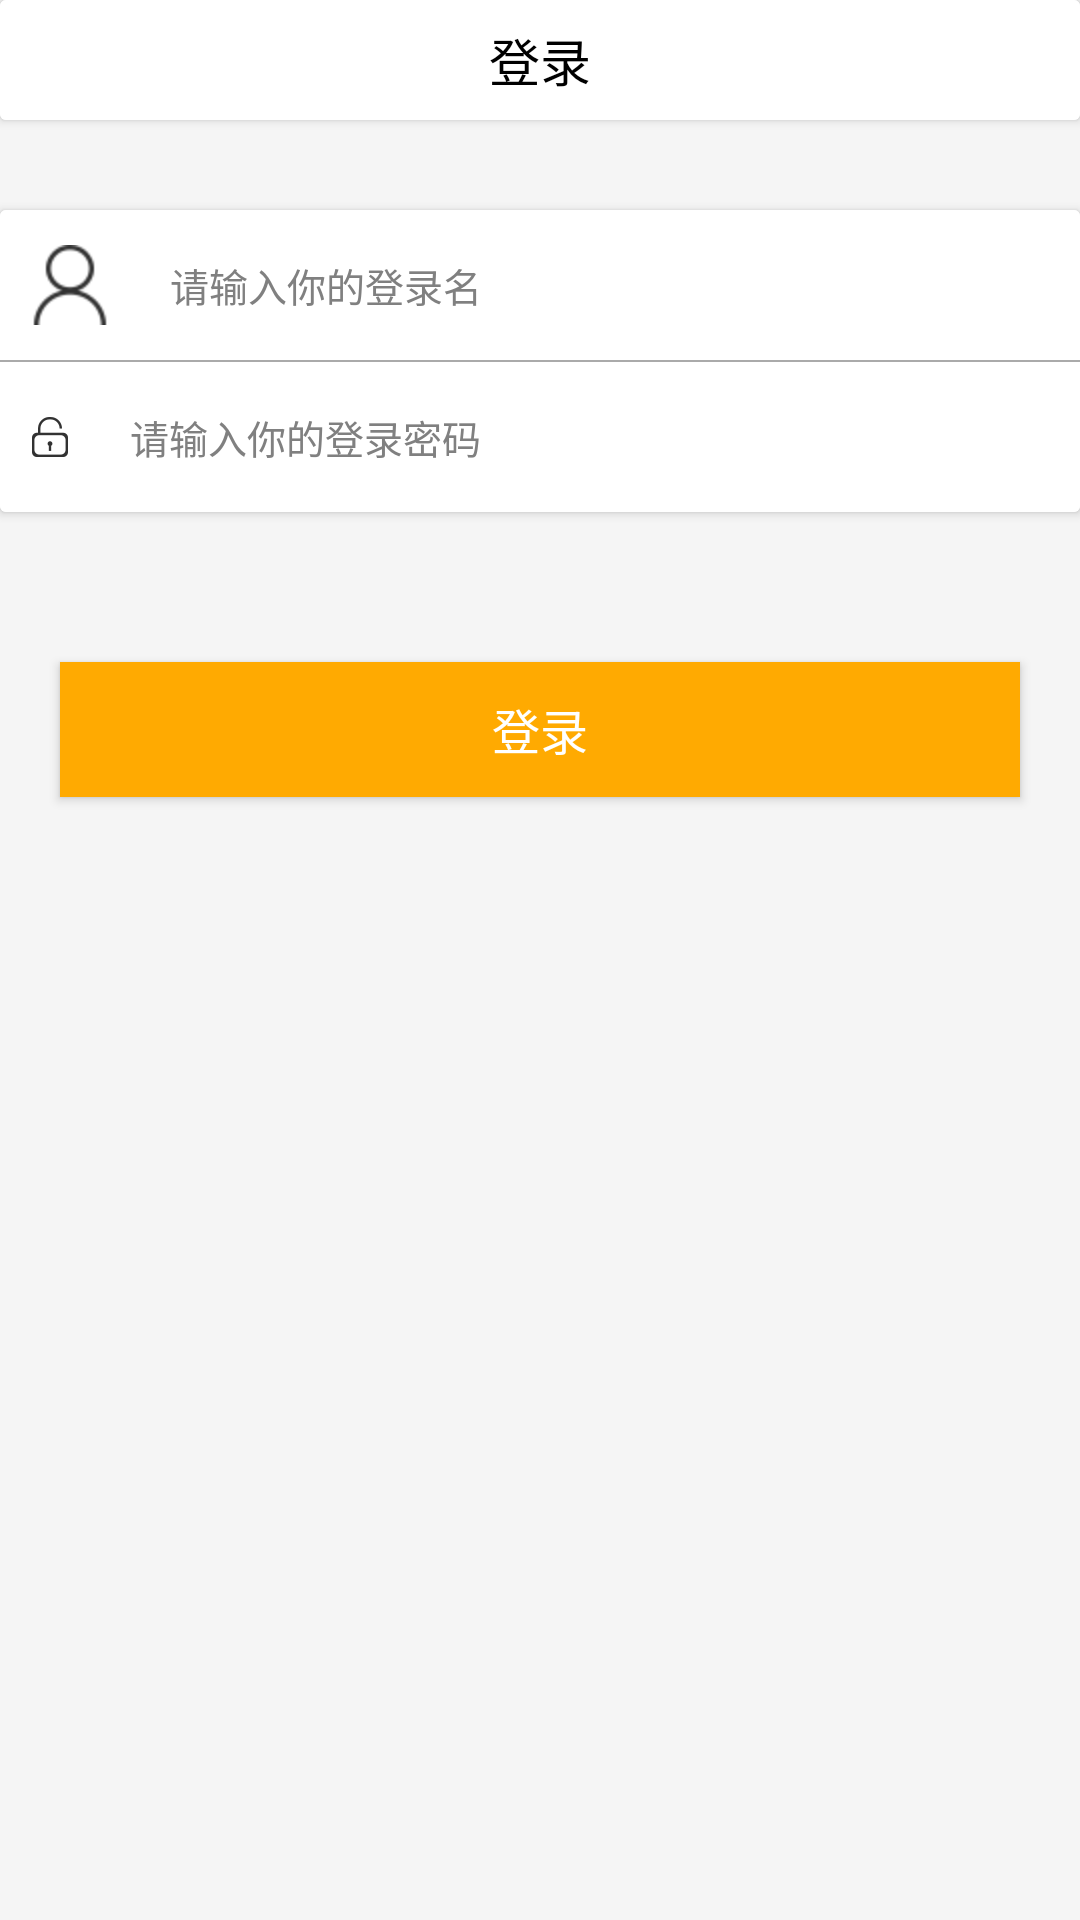

Point at icon controls on the screen. Image size 1080×1920, points as (x=x, y=y).
pass: (x=50, y=437)
user: (x=70, y=285)
